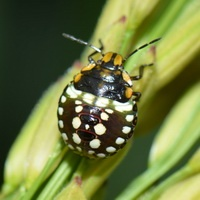insect: (58, 33, 160, 157)
